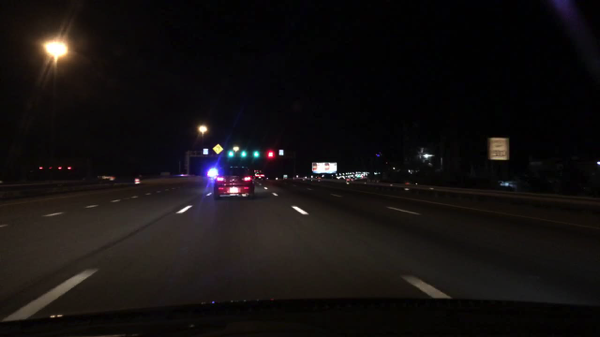car: (214, 166, 256, 200), (98, 169, 141, 185), (207, 168, 219, 178), (256, 171, 265, 181)
traffic light: (228, 151, 234, 158), (254, 152, 260, 159), (268, 151, 273, 158), (242, 151, 247, 157)
traffic sign: (488, 137, 509, 160), (213, 145, 223, 155), (204, 148, 209, 155), (279, 150, 284, 155)
